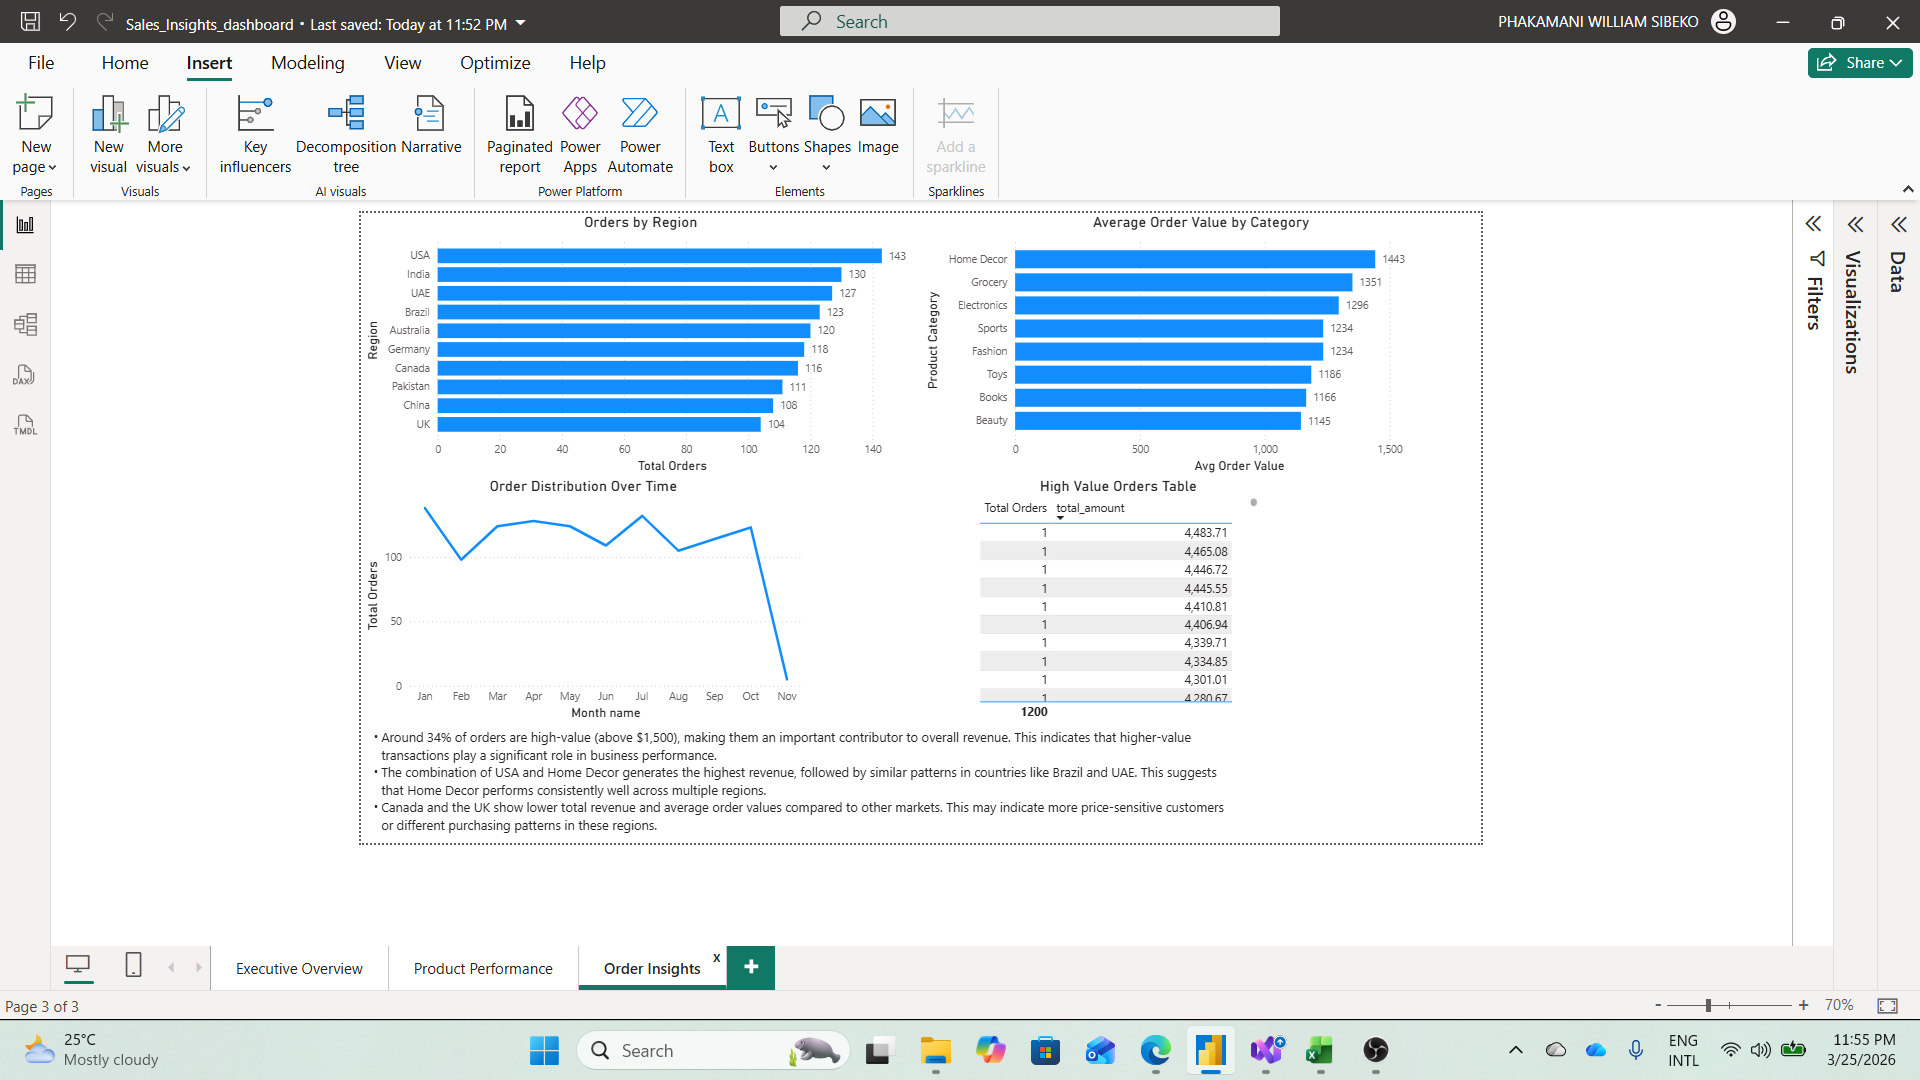

The page's visual inventory and layout, read from the dashboard file:
{"tool":"powerbi","page":{"name":"Order Insights","canvas":[1280,720],"ordinal":2},"visuals":[{"type":"clusteredBarChart","title":"Orders by Region","fields":{"Category":["cleaned_ecommerce_data.region"],"Y":["cleaned_ecommerce_data.Total Orders"]},"box":[0,0,639.5,301.9],"z":0},{"type":"tableEx","title":"High Value Orders Table","fields":{"Values":["cleaned_ecommerce_data.Total Orders","cleaned_ecommerce_data.total_amount"]},"box":[701.4,301.4,328.6,282.9],"z":1000},{"type":"clusteredBarChart","title":"Average Order Value by Category","fields":{"Category":["cleaned_ecommerce_data.product_category"],"Y":["cleaned_ecommerce_data.Avg Order Value"]},"box":[639.5,0,640.8,301.9],"z":2000},{"type":"lineChart","title":"Order Distribution Over Time","fields":{"Category":["cleaned_ecommerce_data.month_name"],"Y":["cleaned_ecommerce_data.Total Orders"]},"box":[0,301.4,508.6,282.9],"z":3000},{"type":"textbox","box":[0,584.3,1002.9,135.7],"z":4000}]}

Visuals, with their boxes on the page's 1280x720 design canvas (x1, y1, x2, y2). These are canvas units, not pixel positions in the 1920x1080 screenshot, which may show the page scaled, cropped or inside an application window:
"Orders by Region" clusteredBarChart: crop(0, 0, 640, 302)
"High Value Orders Table" tableEx: crop(701, 301, 1030, 584)
"Average Order Value by Category" clusteredBarChart: crop(640, 0, 1280, 302)
"Order Distribution Over Time" lineChart: crop(0, 301, 509, 584)
textbox: crop(0, 584, 1003, 720)
